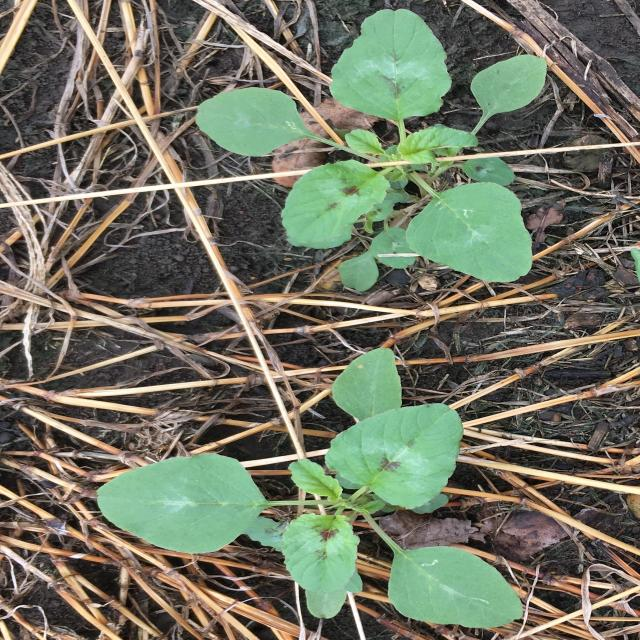PalmerAmaranth: (96, 347, 524, 629), (195, 9, 548, 292)
